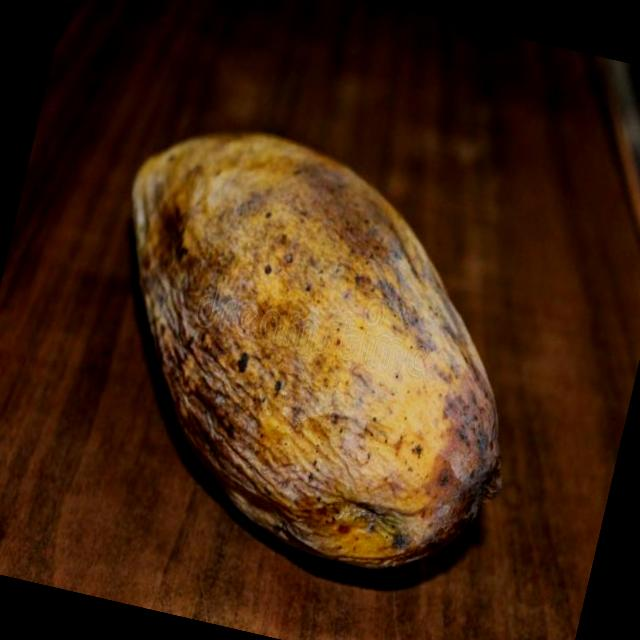Mango: (56, 104, 564, 604)
